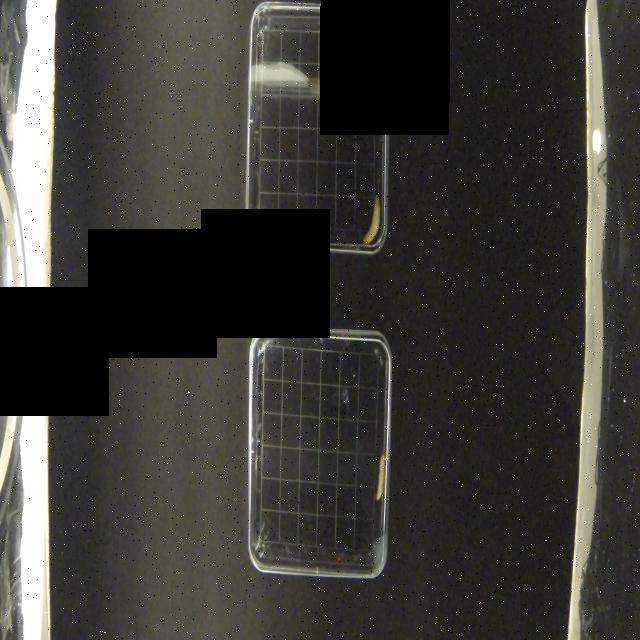larva: (361, 195, 382, 246), (376, 452, 386, 502)
